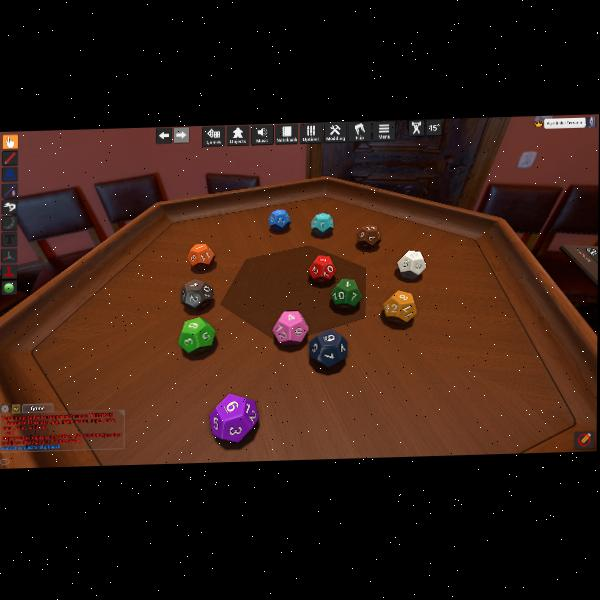d12: (208, 393, 258, 443), (178, 317, 217, 355), (314, 328, 350, 368), (273, 310, 306, 345), (383, 289, 414, 323), (181, 278, 214, 309), (331, 278, 361, 308), (397, 249, 425, 280), (188, 242, 216, 270), (309, 254, 335, 283), (310, 212, 332, 235), (358, 224, 380, 246), (269, 208, 290, 229)
